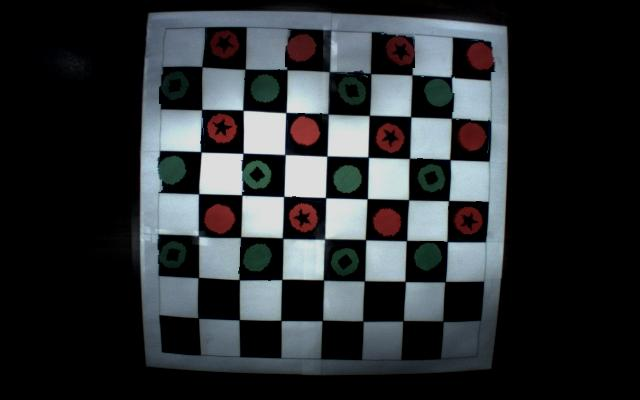G: (156, 238, 192, 275), (159, 68, 195, 104), (332, 72, 368, 108), (415, 160, 449, 196), (239, 158, 274, 192), (329, 245, 362, 276)
R: (449, 202, 486, 240), (201, 112, 238, 148), (286, 198, 322, 234), (381, 30, 415, 68), (205, 28, 241, 63), (375, 118, 407, 153)
g: (240, 240, 278, 280), (246, 71, 285, 108), (153, 154, 190, 191), (421, 75, 456, 112), (332, 162, 365, 196), (413, 241, 444, 275)
r: (369, 202, 406, 239), (202, 200, 239, 236), (285, 31, 321, 67), (286, 113, 322, 148), (461, 38, 496, 73), (457, 118, 491, 153)
